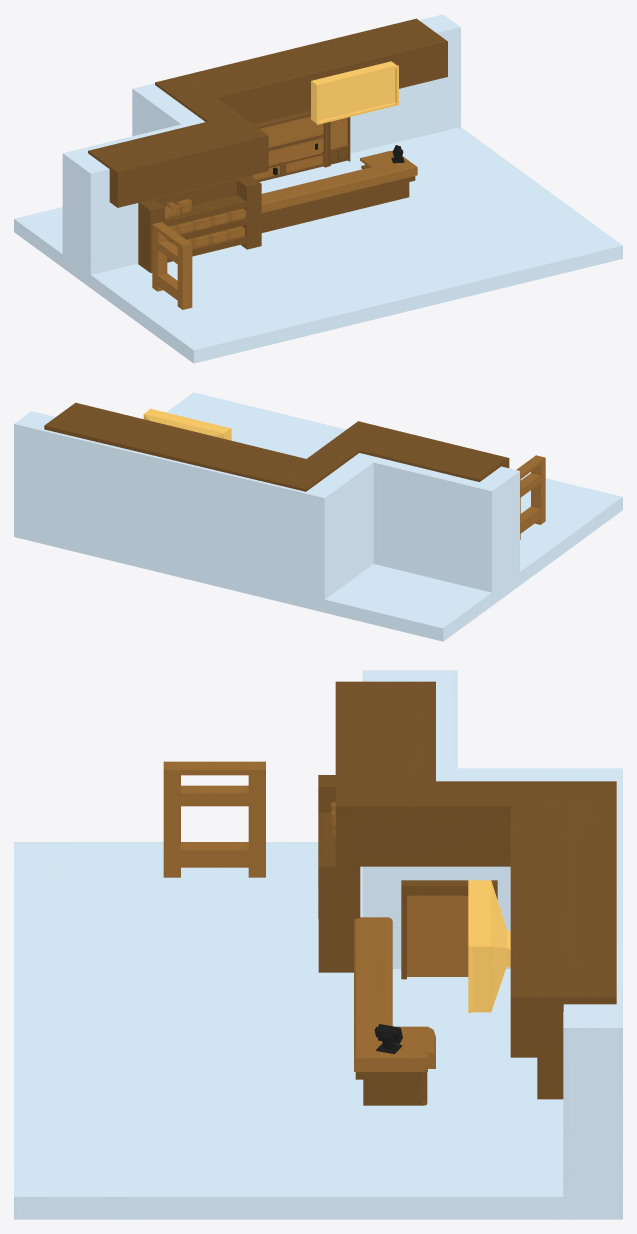
File: aquarium-scene.glb
3 renders of one model, top to bottom at view 1: azimuth 30°, elevation 25°; view 2: azimuth 150°, elevation 25°; view 3: azimuth 270°, elevation 25°, orthographic. The views are drawn at different scales.
Visible parts, largest first — view 1: Cube_Baked, Plane.003_Baked, Bookcase.001_Baked, Plane.036_Baked, Plane.039_Baked, Plane.012_Baked, Plane.035_Baked, Cube.003_Baked, Clothes Shelf_Baked, Cube.002_Baked, Book.005_Baked, Book.010_Baked (+2 smaller); view 2: Cube_Baked, Plane.003_Baked, Plane.035_Baked, Plane.036_Baked; view 3: Cube_Baked, Plane.003_Baked, Plane.035_Baked, Plane.039_Baked, Bookcase.001_Baked, Plane.040_Baked, Plane.036_Baked, Plane.012_Baked, Plane.004_Baked, Clothes Shelf.001_Baked.
Boxes of the visible parts, x1,y1,x2,y2 form: Cube_Baked: [14, 14, 622, 363]; Plane.003_Baked: [88, 18, 447, 207]; Bookcase.001_Baked: [138, 175, 261, 272]; Plane.036_Baked: [311, 61, 398, 124]; Plane.039_Baked: [261, 150, 417, 212]; Plane.012_Baked: [261, 165, 415, 232]; Plane.035_Baked: [152, 222, 192, 309]; Cube.003_Baked: [259, 116, 323, 147]; Clothes Shelf_Baked: [253, 110, 328, 181]; Cube.002_Baked: [268, 138, 323, 164]; Book.005_Baked: [169, 208, 246, 234]; Book.010_Baked: [172, 226, 245, 248]; Cube_Baked: [14, 392, 622, 641]; Plane.003_Baked: [44, 402, 509, 491]; Plane.035_Baked: [516, 455, 545, 539]; Plane.036_Baked: [143, 408, 231, 440]; Cube_Baked: [14, 670, 622, 1219]; Plane.003_Baked: [335, 681, 616, 1057]; Plane.035_Baked: [163, 761, 265, 877]; Plane.039_Baked: [354, 917, 435, 1071]; Bookcase.001_Baked: [318, 775, 360, 972]; Plane.040_Baked: [407, 895, 468, 976]; Plane.036_Baked: [468, 879, 510, 1013]; Plane.012_Baked: [355, 1072, 427, 1105]; Plane.004_Baked: [401, 880, 497, 979]; Clothes Shelf.001_Baked: [537, 1057, 563, 1099].
Bounding box in the file's own units: 174 × 45.31 × 126.
2 materials, 2 textured.
